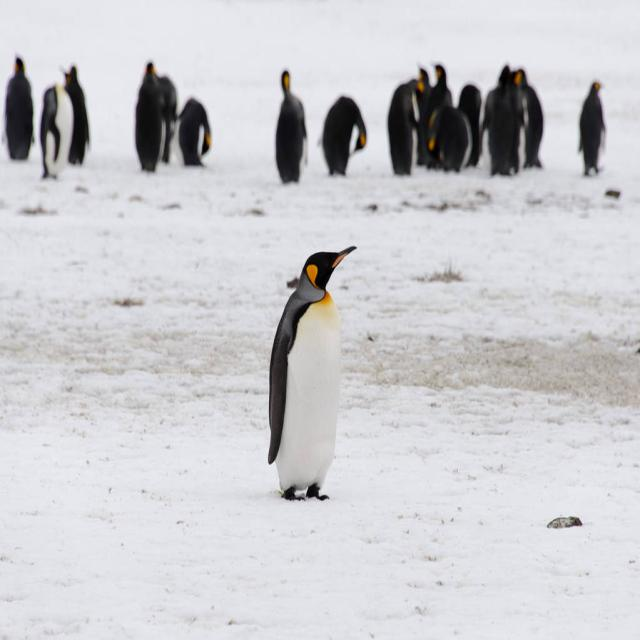Penguins: (264, 240, 366, 523), (130, 59, 176, 173), (323, 95, 373, 197), (268, 66, 308, 191), (3, 54, 39, 188), (384, 73, 426, 180), (576, 75, 612, 177), (176, 93, 217, 182), (491, 69, 522, 184)
